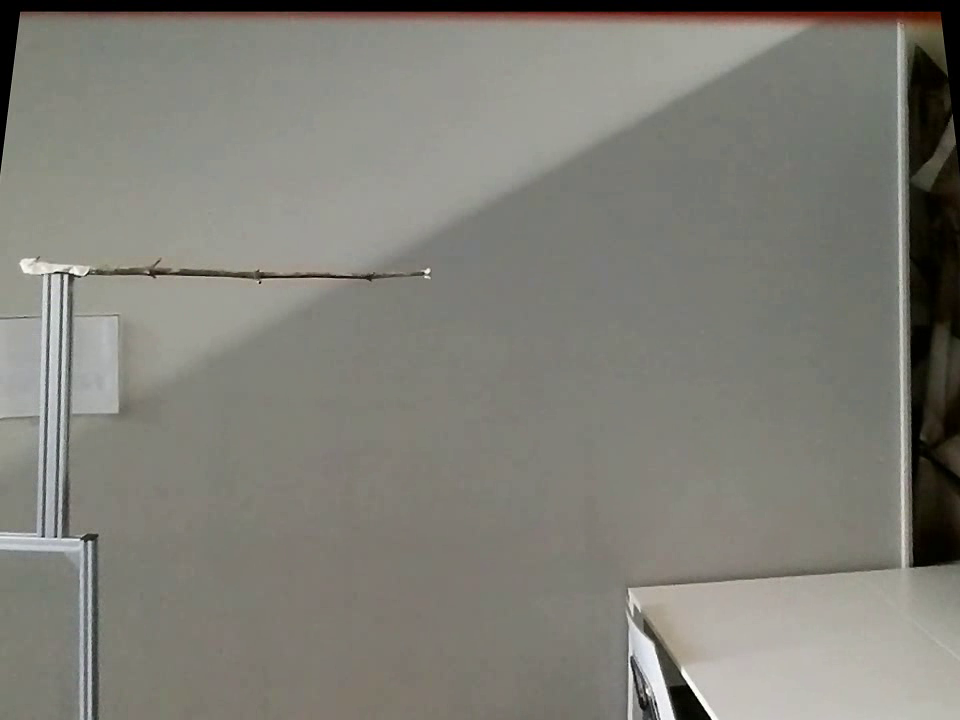aluminum_frame: (30, 277, 75, 534), (36, 275, 59, 552), (75, 531, 103, 719), (1, 528, 92, 559)
branch: (92, 249, 419, 290)
